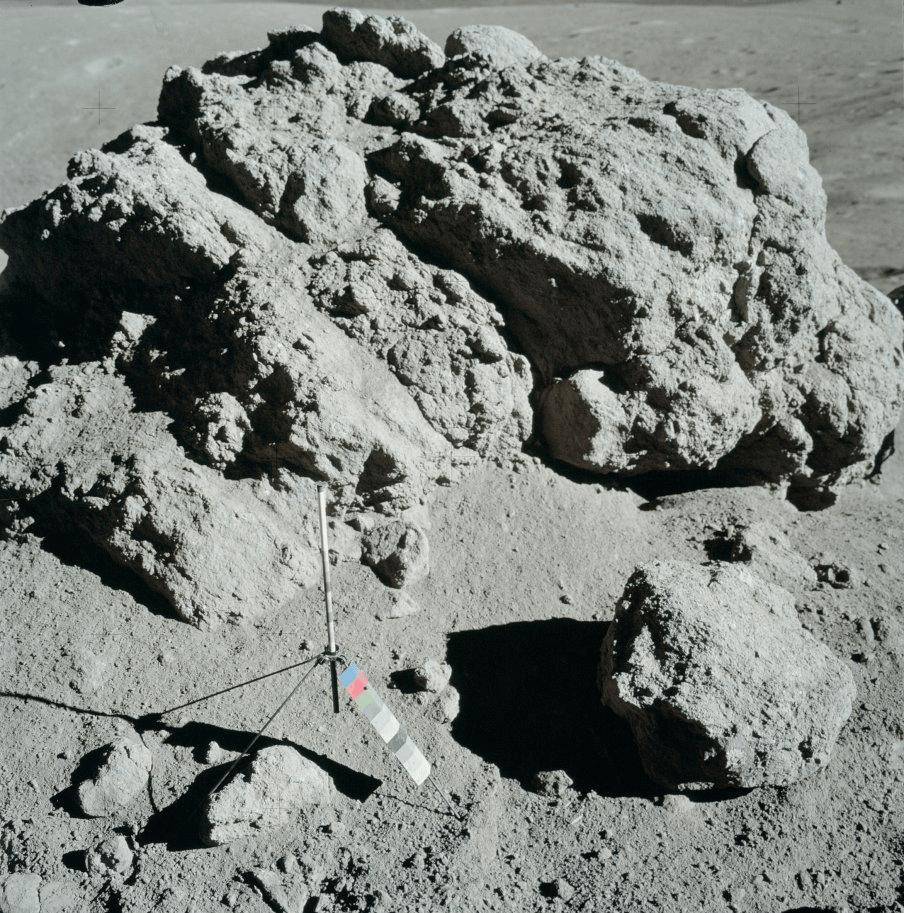rock: (0, 11, 902, 620), (599, 562, 856, 786)
